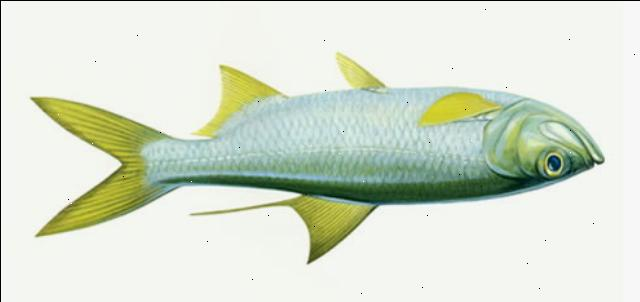Mulut: (562, 104, 616, 184)
Sirip Anal: (192, 58, 282, 140)
Sirip Dada: (415, 88, 497, 128)
Sirip Ekor: (24, 92, 158, 244)
Sirip Perut: (332, 48, 386, 96)
Sirip Punggung: (185, 180, 378, 266)
